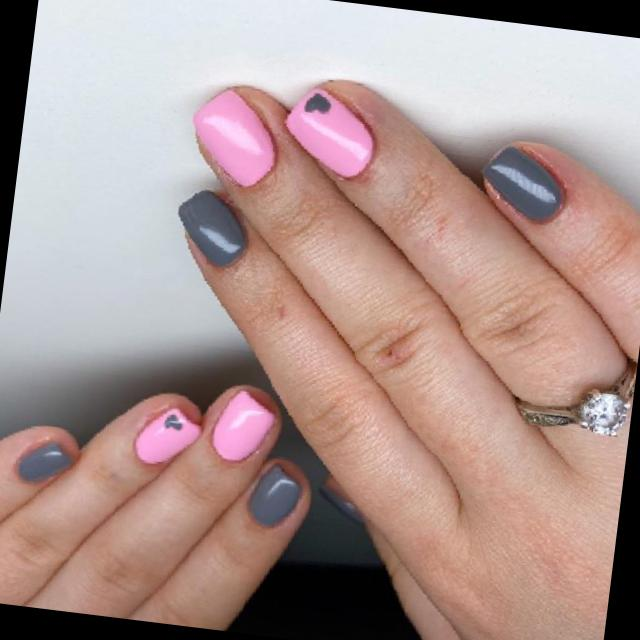Nail: (192, 89, 274, 185), (285, 87, 372, 175), (482, 146, 561, 220), (177, 190, 244, 264), (211, 389, 273, 460), (133, 407, 200, 463), (247, 463, 301, 525), (16, 442, 71, 482)
